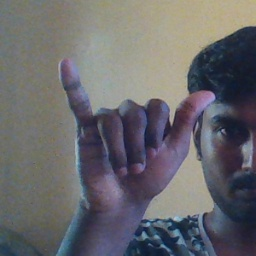J: (58, 55, 215, 204)
